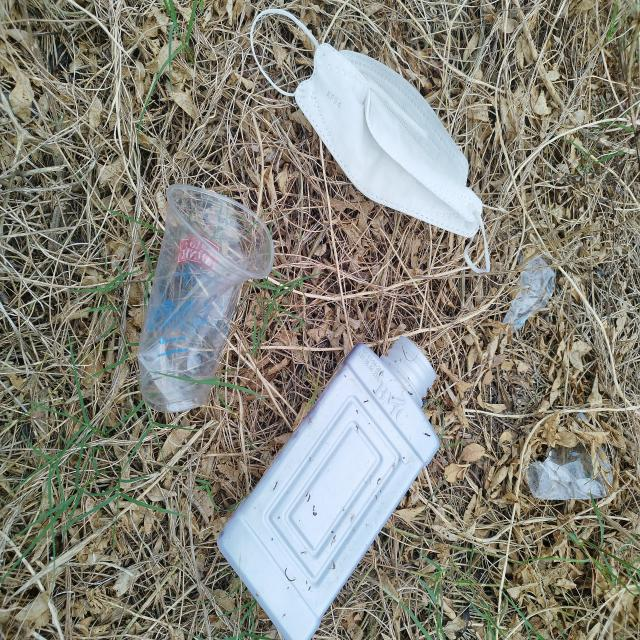bottle: (215, 333, 441, 640)
mask: (250, 9, 492, 276)
plastic glass: (138, 182, 274, 413)
